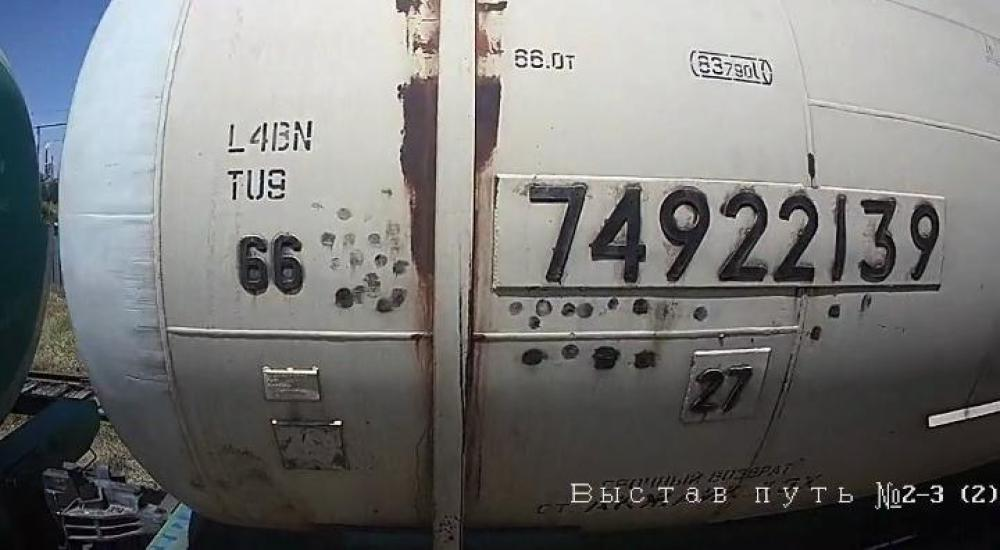Wagon-number: (518, 178, 942, 291)
